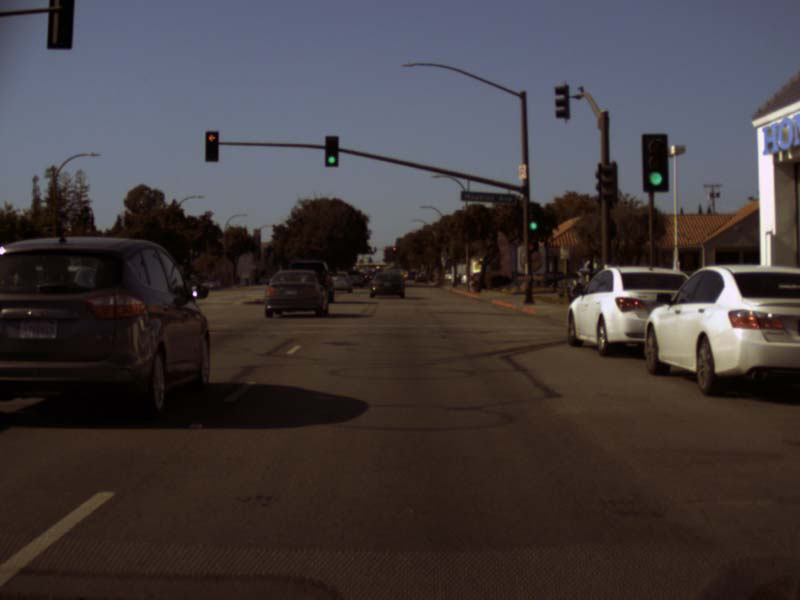Green: (641, 133, 668, 191), (324, 134, 338, 166), (527, 204, 540, 234)
Red: (205, 131, 218, 162), (391, 245, 397, 255)
